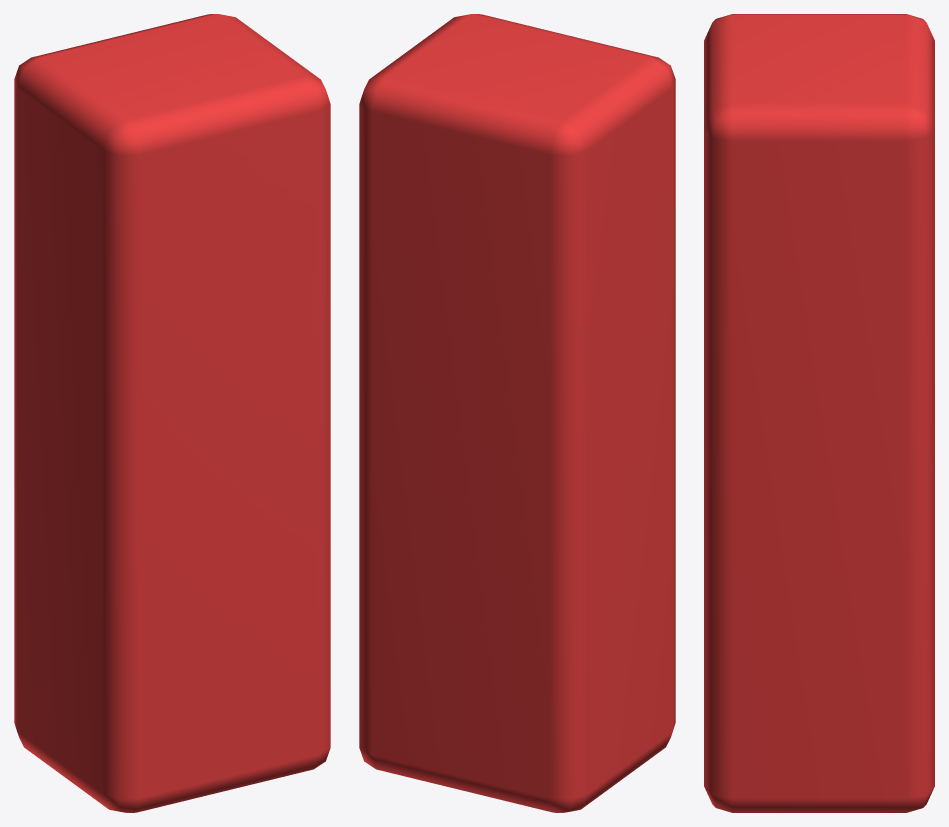
Rendered from GEO_BrakeCaliper_Front.L.glb.
3 renders of one model, left to right at view 1: azimuth 30°, elevation 25°; view 2: azimuth 150°, elevation 25°; view 3: azimuth 270°, elevation 25°, orthographic. The views are drawn at different scales.
Parts seen in each view (by area): view 1: GEO_BrakeCaliper_Front.L; view 2: GEO_BrakeCaliper_Front.L; view 3: GEO_BrakeCaliper_Front.L.
Boxes of the visible parts, x1,y1,x2,y2 form: GEO_BrakeCaliper_Front.L: (14, 14, 330, 812); GEO_BrakeCaliper_Front.L: (359, 14, 675, 812); GEO_BrakeCaliper_Front.L: (704, 14, 934, 812).
Size of the model in its own units: 0.075 by 0.22 by 0.065.
